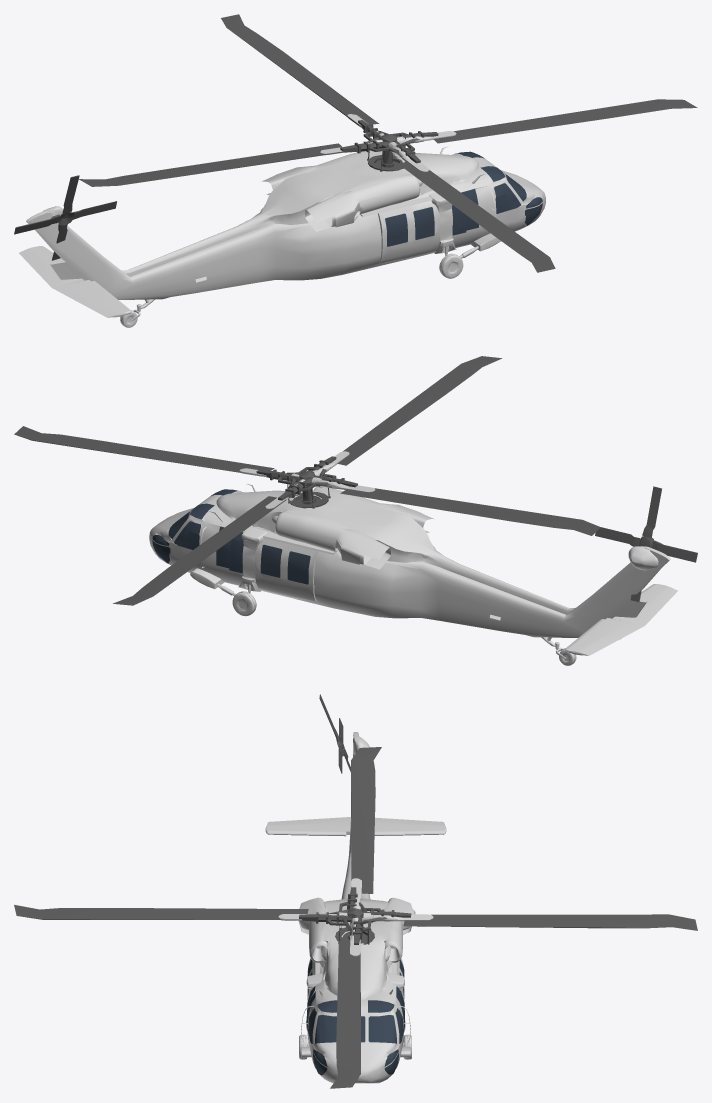
3 views of the same model, one above another, from view 1: azimuth 30°, elevation 25°; view 2: azimuth 150°, elevation 25°; view 3: azimuth 270°, elevation 25° (orthographic).
Parts seen in each view (by area): view 1: body, spin (×2), glass; view 2: body, spin (×2), glass; view 3: spin, body, glass.
Part boxes in pixels (<box>): body: <box>19,114,545,327</box>; spin (×2): <box>14,14,697,272</box>; glass: <box>385,151,542,246</box>; body: <box>149,451,677,665</box>; spin (×2): <box>14,356,697,605</box>; glass: <box>152,489,310,584</box>; spin: <box>14,747,697,1088</box>; body: <box>265,732,446,1083</box>; glass: <box>306,960,404,1075</box>.
Bounding box in the file's own units: 2.2 × 0.5737 × 1.93.
